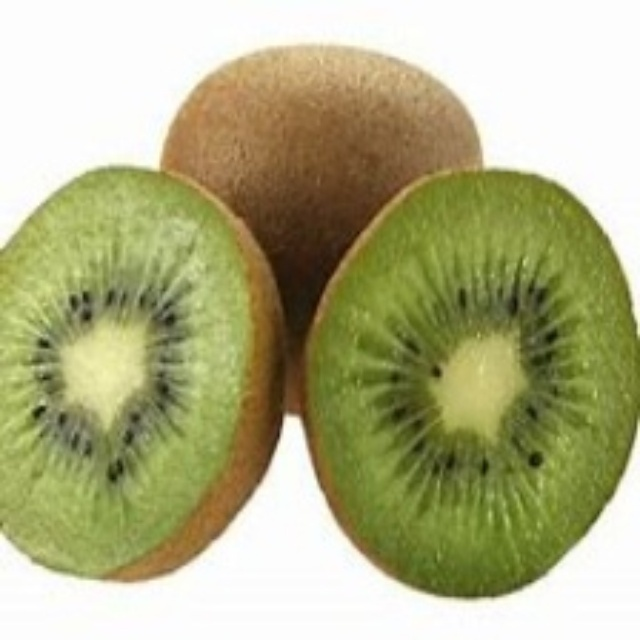kiwi: (298, 164, 637, 602), (5, 167, 281, 588), (151, 41, 490, 268)
